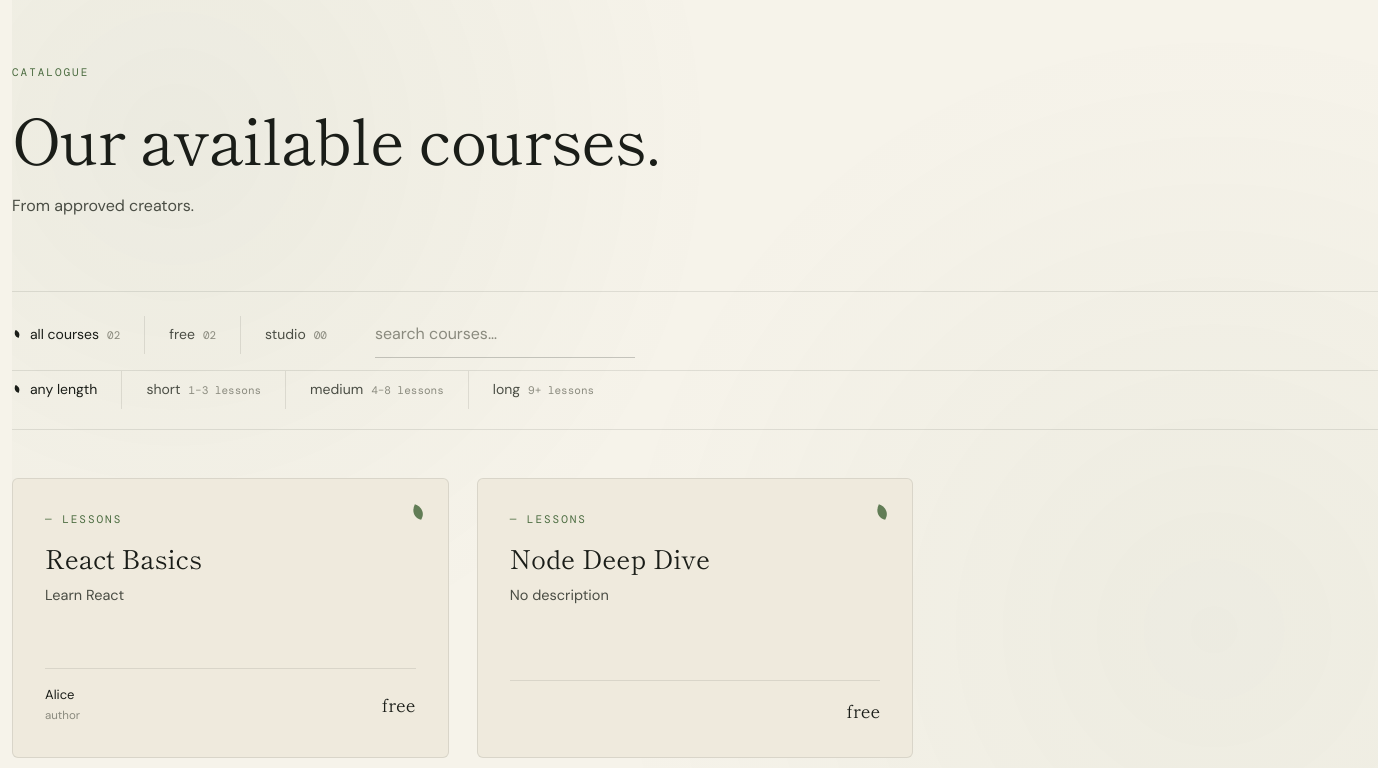
Courses › suggests clearing filters when search matches nothing
Expected: the heading "React Basics" is shown, x1=45 y1=539 x2=202 y2=576
Step 1. Type "zzzz" into the search field labelled "search courses…" → coordinates (505, 335), box x1=375 y1=312 x2=635 y2=358
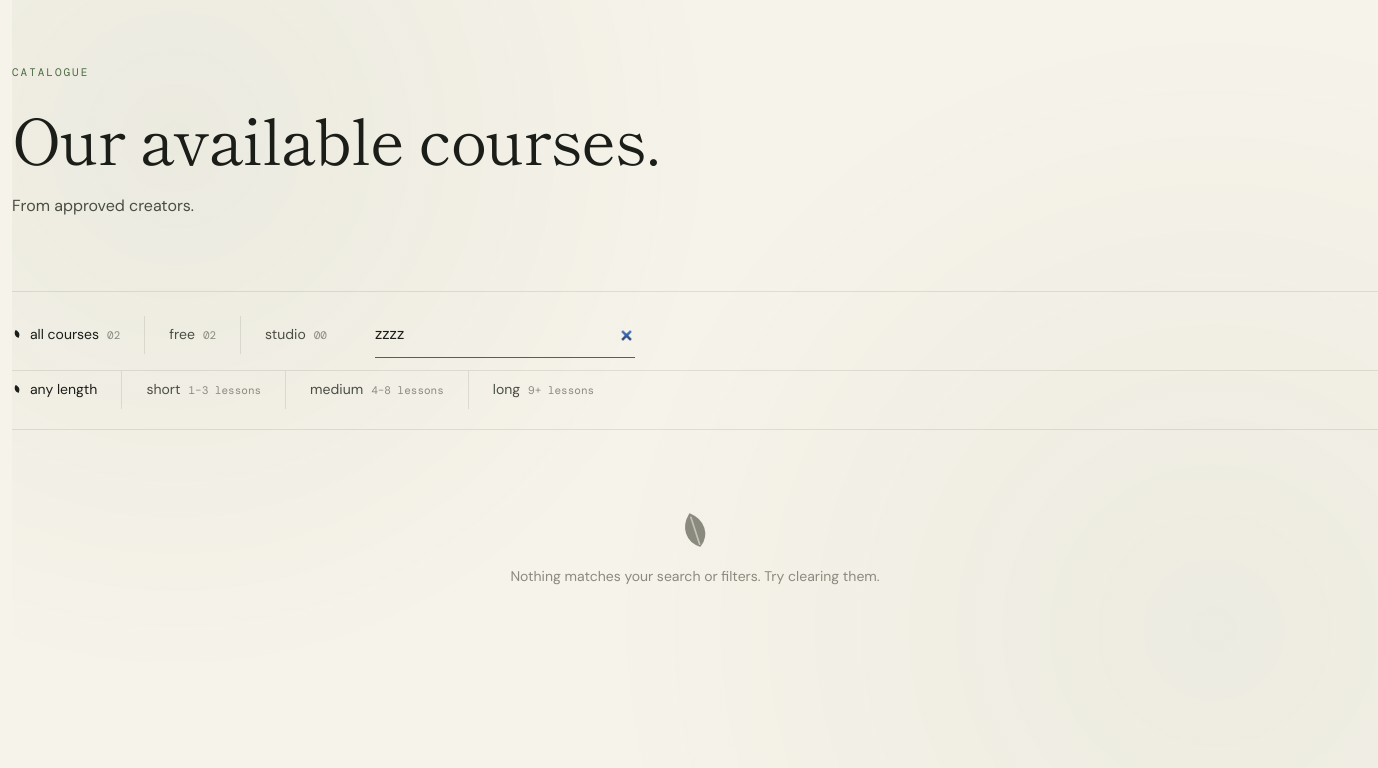
Now the text "Nothing matches your search or filters. Try clearing them." is shown, box x1=510 y1=566 x2=880 y2=584
